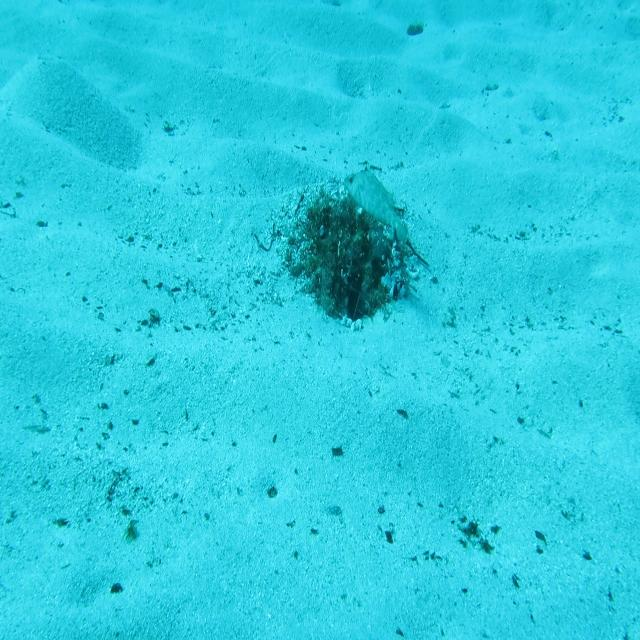UP: (343, 161, 409, 248)
nest: (284, 176, 432, 324)
